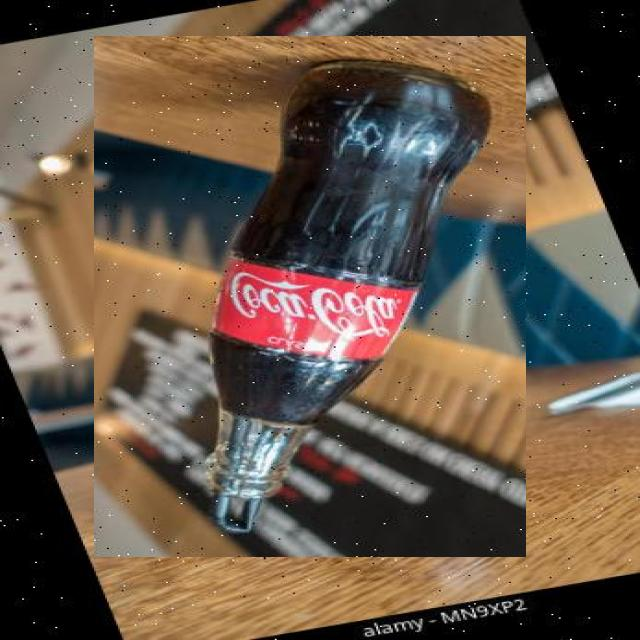coca-cola: (94, 36, 526, 557)
